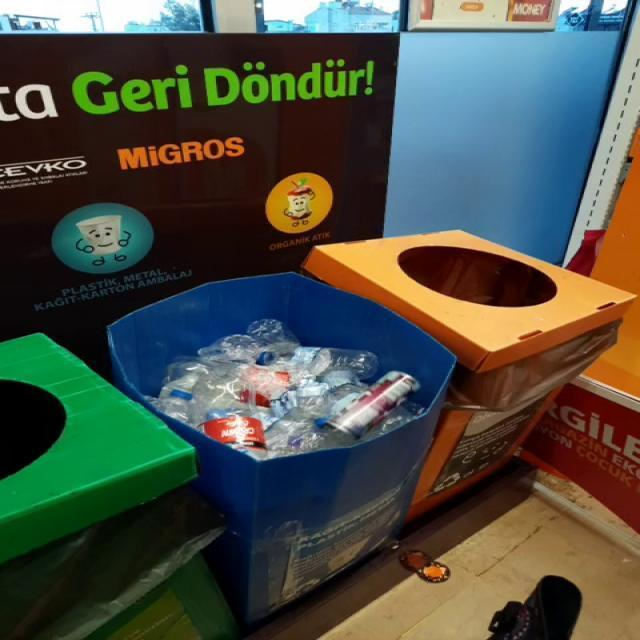Bin: (108, 231, 635, 624)
Metal: (327, 372, 421, 438)
